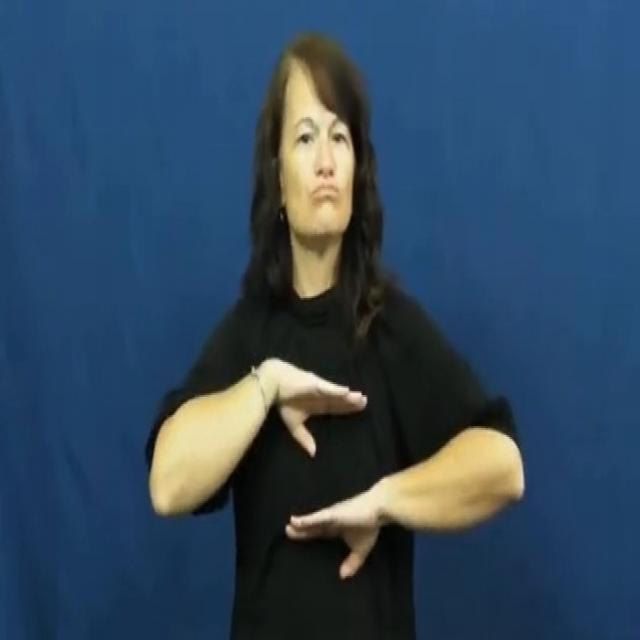enjoy: (230, 341, 422, 588)
